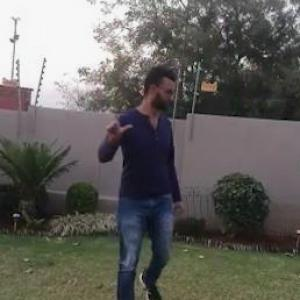land_hand: (102, 104, 135, 143)
